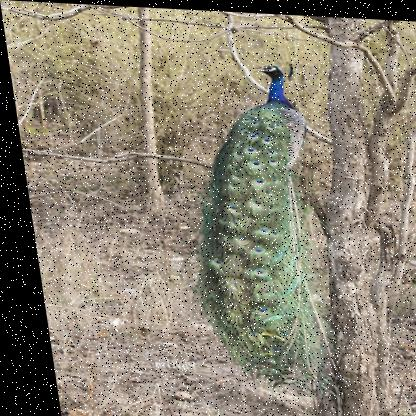Burung: (161, 54, 336, 398)
